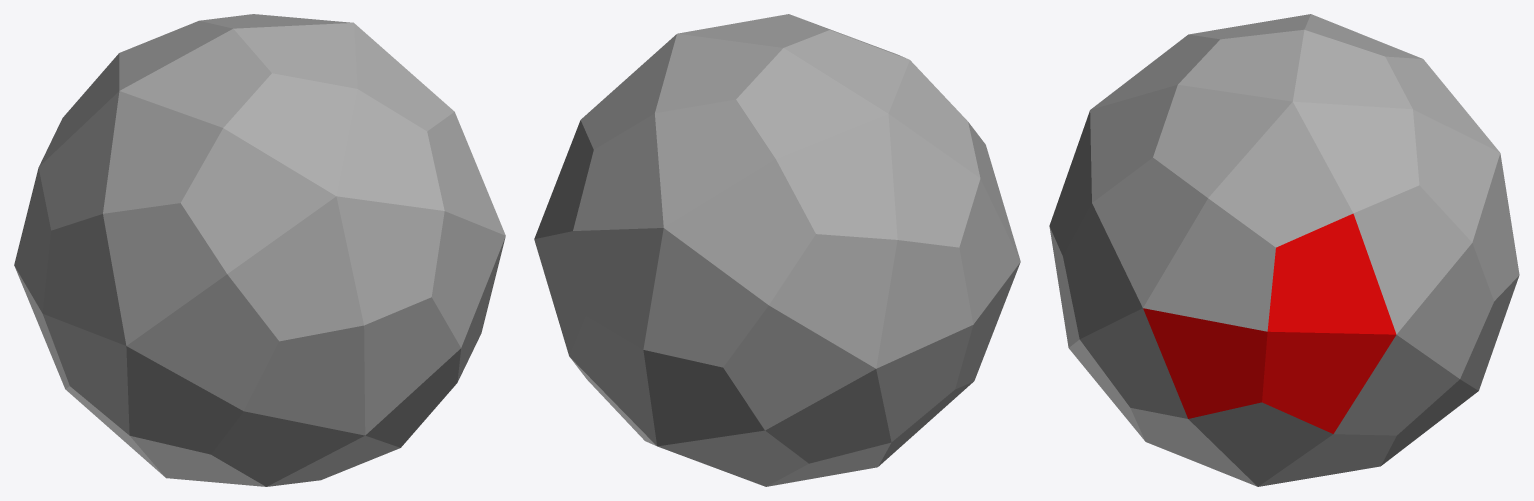
Rendered from polyform_2.glb.
The picture shows the model from 3 angles, left to right: view 1: azimuth 30°, elevation 25°; view 2: azimuth 150°, elevation 25°; view 3: azimuth 270°, elevation 25°; orthographic projection. The views are drawn at different scales.
Bounding box in the file's own units: 4.44 × 4.44 × 4.44.
